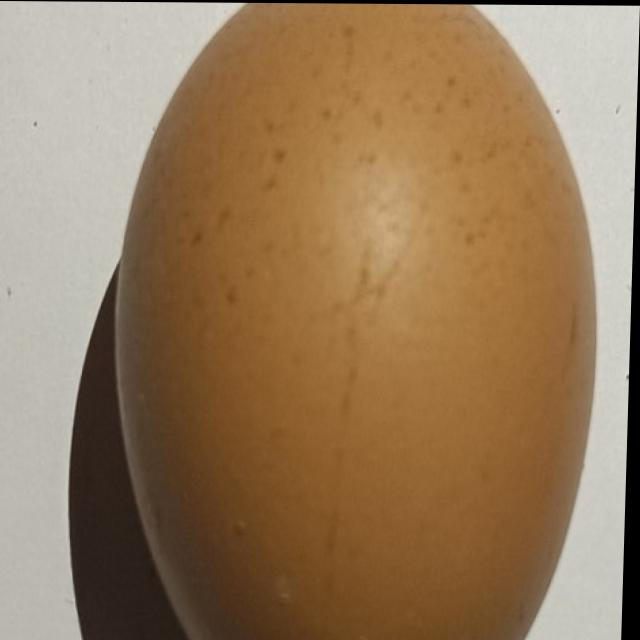unfresh: (106, 1, 625, 640)
